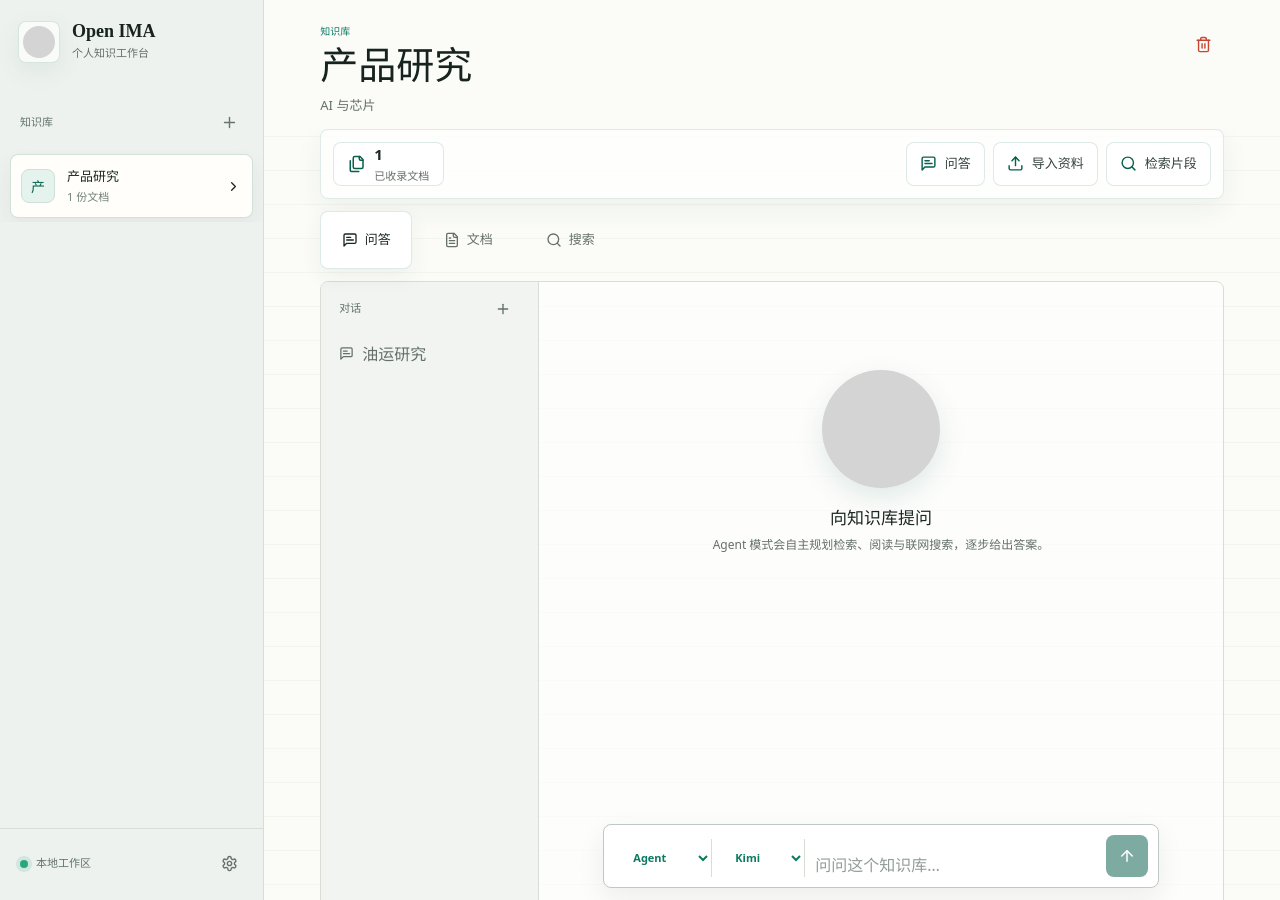
Test: App › locates the cited document from the citation card
The width and height of the screenshot is (1280, 900).
Click the button "油运研究" at (430,354), box [330, 332, 529, 376]
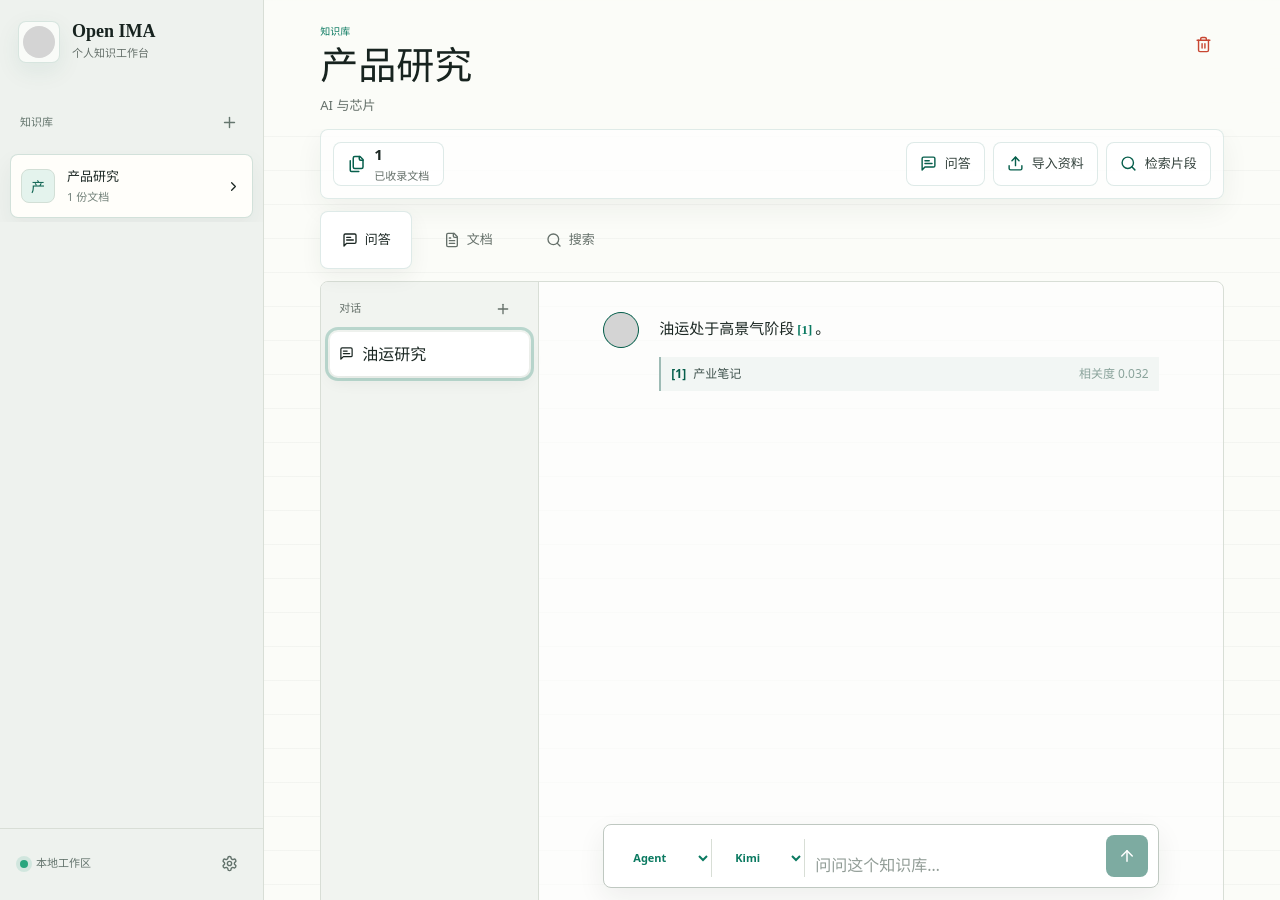
Click the button named "引用 1：产业笔记" at (805,331), box [794, 320, 815, 342]
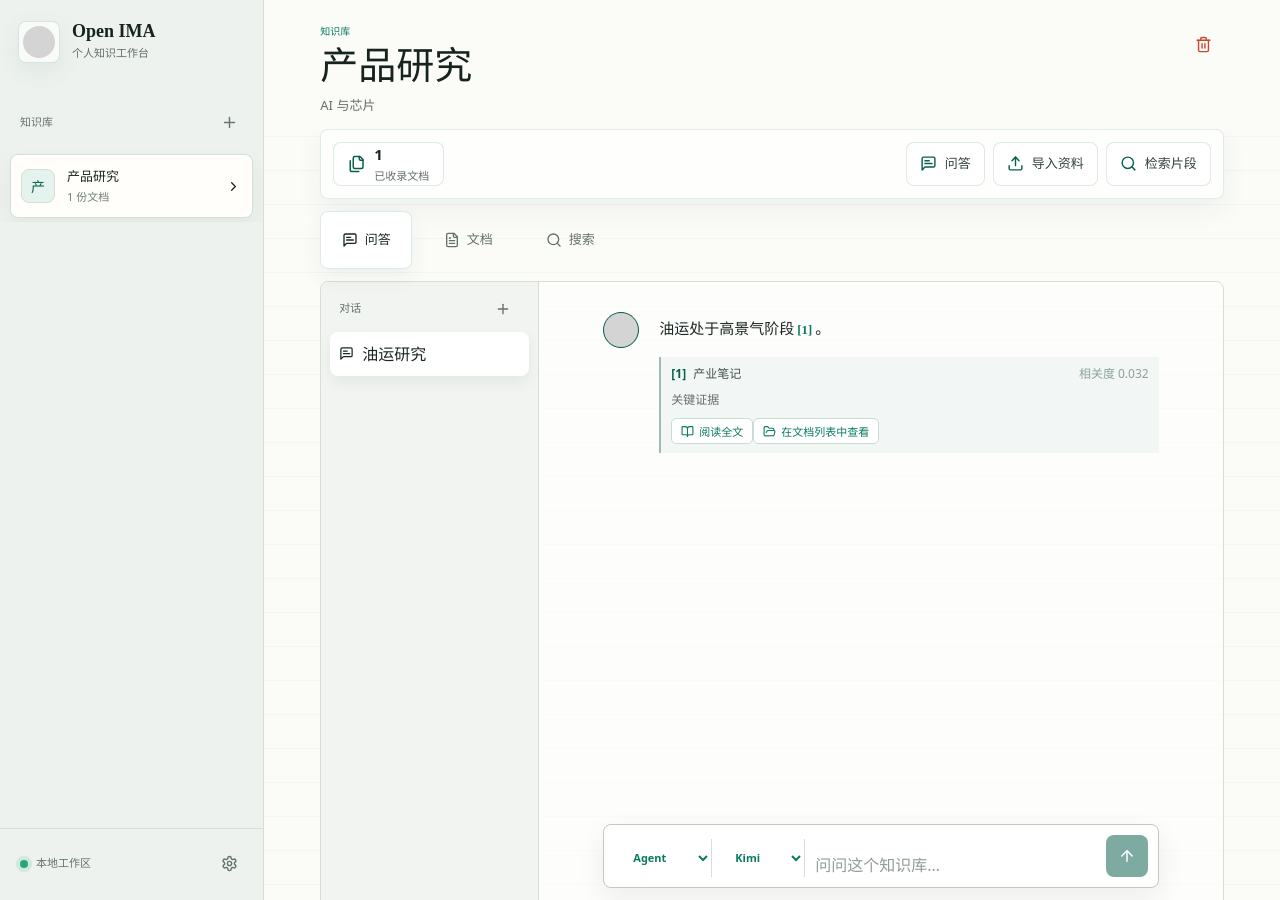
Click the button "在文档列表中查看" at (816,432), box [753, 418, 879, 444]
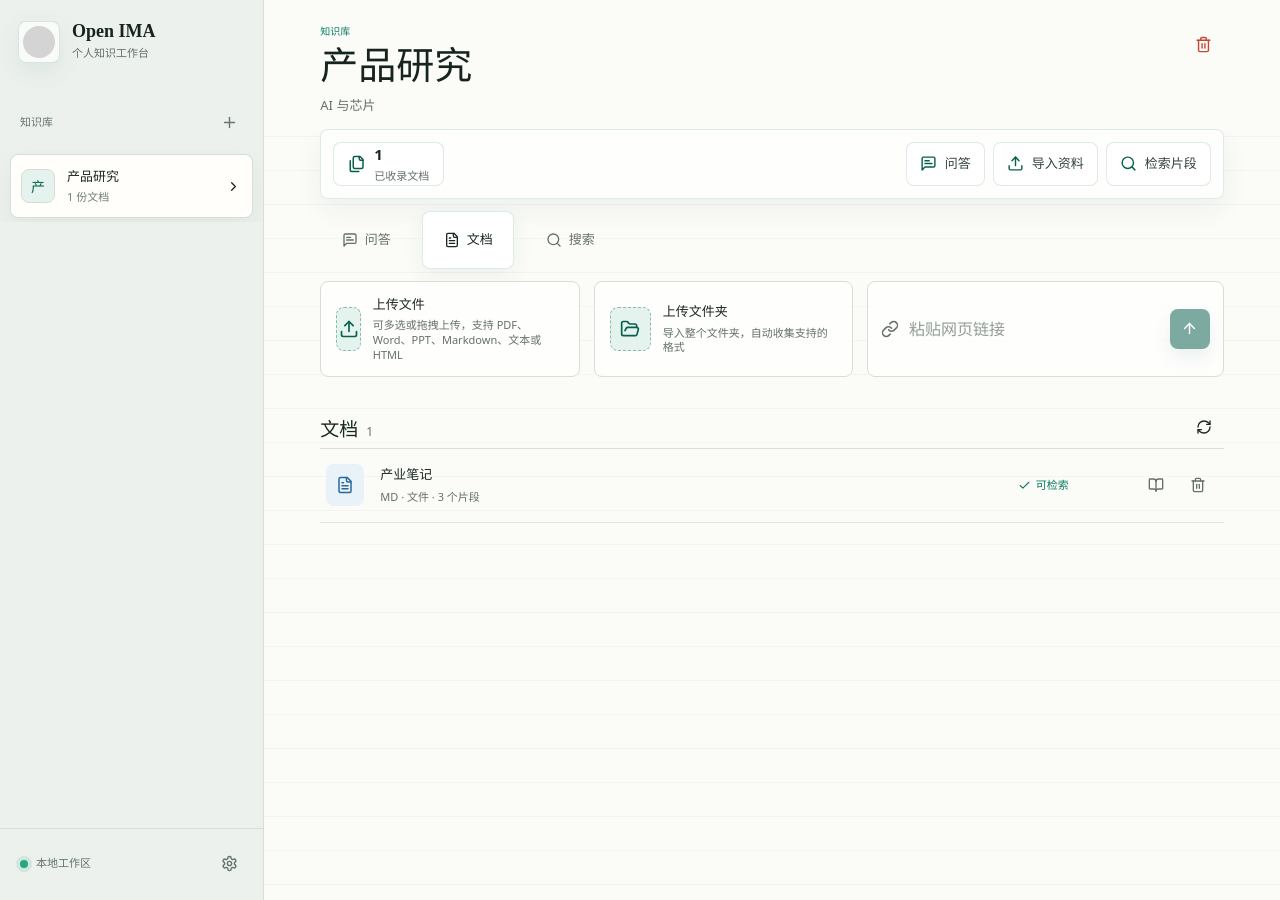
Result: the element with class "highlight" is shown at [320, 449, 1224, 523]
Result: the element with class "highlight" shows "产业笔记" at [380, 465, 432, 483]
